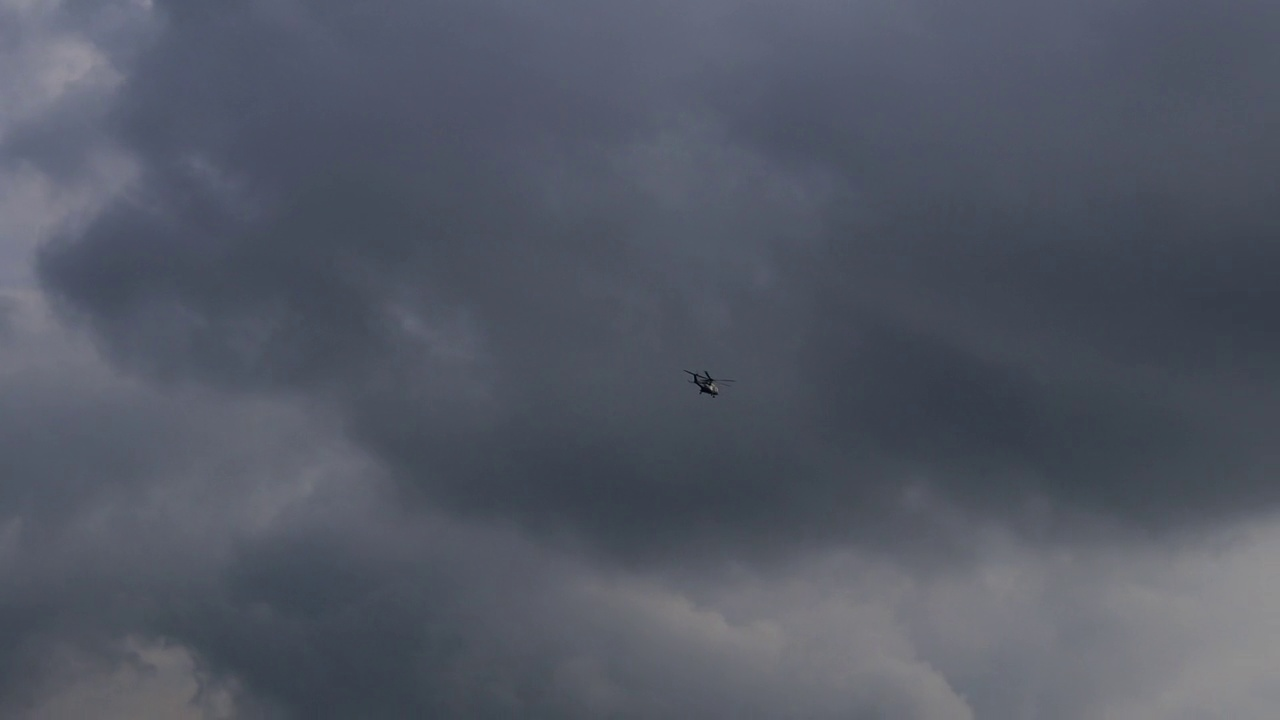heli: (682, 368, 735, 398)
